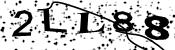2: (11, 7, 33, 39)
8: (141, 10, 171, 43), (110, 9, 134, 36)
L: (73, 7, 108, 37), (37, 7, 70, 38)
